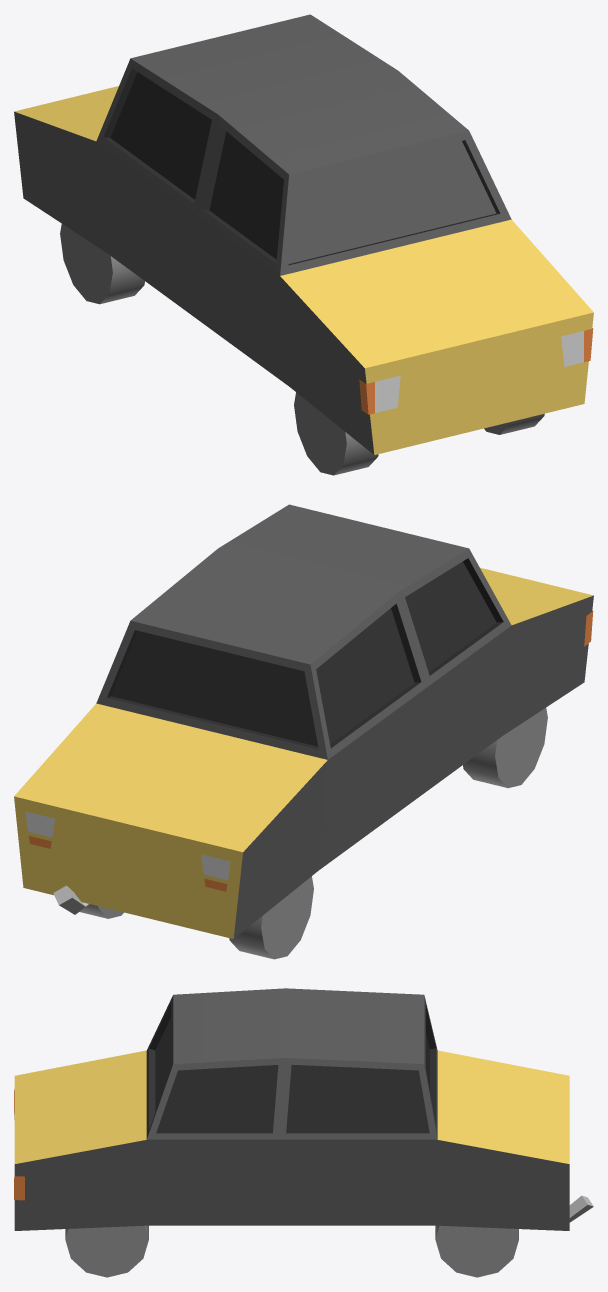
File: car_mixed_14.fbx
3 views of the same model, one above another, from view 1: azimuth 30°, elevation 25°; view 2: azimuth 150°, elevation 25°; view 3: azimuth 270°, elevation 25° (orthographic). The views are drawn at different scales.
Parts seen in each view (by area): view 1: car_mixed_14; view 2: car_mixed_14; view 3: car_mixed_14.
Boxes of the visible parts, x1=… form: car_mixed_14: x1=14, y1=14, x2=593, y2=475; car_mixed_14: x1=14, y1=504, x2=593, y2=959; car_mixed_14: x1=14, y1=988, x2=593, y2=1277.
Size of the model in its own units: 1.6 by 1.8 by 4.39.
